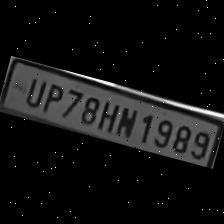1: (132, 107, 156, 144)
7: (56, 83, 84, 121)
8: (74, 90, 104, 128), (168, 118, 194, 154)
9: (148, 114, 177, 150), (186, 124, 212, 161)
H: (94, 96, 122, 134)
N: (113, 101, 140, 139)
P: (38, 78, 66, 114)
U: (20, 73, 48, 109)
